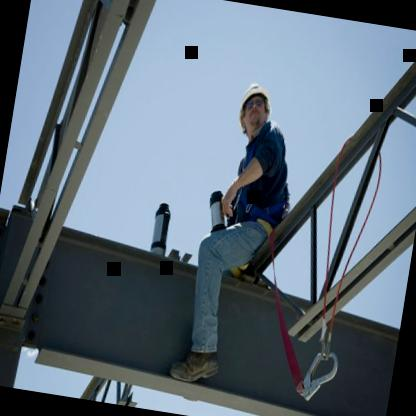helmet: (230, 72, 278, 150)
